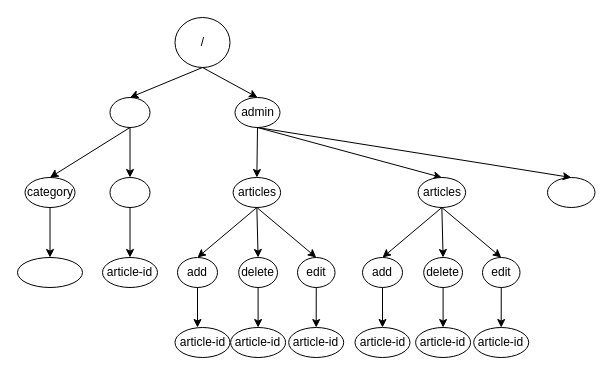
The diagram is 613 pixels wide and 375 high, and some of its shapes have lost their labels. The centre of each missing label's shape, as x and y in pixels:
article: (x=129, y=192)
blog: (x=129, y=112)
category-id: (x=49, y=272)
login: (x=570, y=192)
